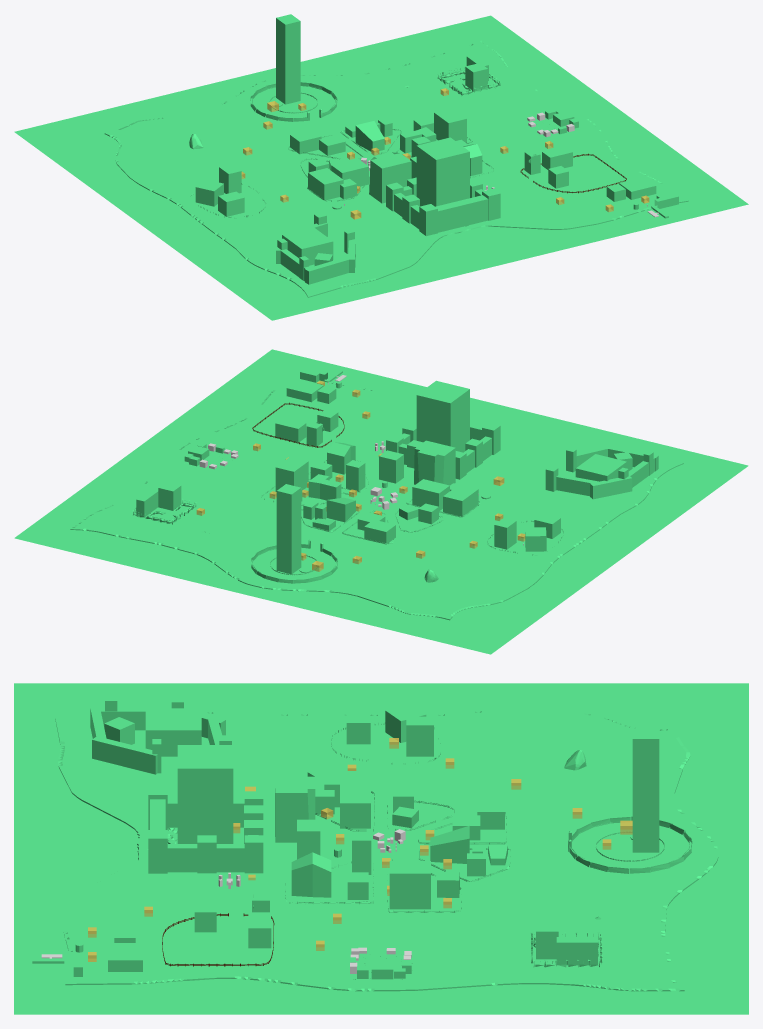
3 renders of one model, top to bottom at view 1: azimuth 30°, elevation 25°; view 2: azimuth 150°, elevation 25°; view 3: azimuth 270°, elevation 25°, orthographic. The views are drawn at different scales.
Parts seen in each view (by area): view 1: COL_Ground, COL_Water, COL_WonderWalls_SecondAge, COL_Temple_SecondAge_Level2, COL_House_3.001, COL_Wall_SecondAge.002, COL_Barracks_SecondAge_Level3, COL_Barracks_FirstAge_Level2.001, COL_Inn, COL_Stable.001, COL_Houses_SecondAge_2_Level2.002, COL_Houses_SecondAge_2_Level2.001 (+8 smaller); view 2: COL_Ground, COL_Water, COL_Temple_SecondAge_Level2, COL_WonderWalls_SecondAge, COL_Wall_SecondAge.002, COL_House_3.001, COL_Barracks_SecondAge_Level3, COL_Barracks_FirstAge_Level2.001, COL_Inn, COL_Stable.001, COL_Houses_SecondAge_2_Level2.002, COL_TowerHouse_SecondAge (+11 smaller); view 3: COL_Ground, COL_Water, COL_WonderWalls_SecondAge, COL_Temple_SecondAge_Level2, COL_House_3.001, COL_Wall_SecondAge.002, COL_Barracks_SecondAge_Level3, COL_Barracks_FirstAge_Level2.001, COL_Inn, COL_Houses_SecondAge_2_Level2, COL_Wall_SecondAge, COL_Houses_SecondAge_2_Level2.002 (+17 smaller).
Part boxes in pixels (x1=…): COL_Ground: x1=104, y1=39, x2=688, y2=297; COL_Water: x1=14, y1=15, x2=748, y2=320; COL_WonderWalls_SecondAge: x1=386, y1=177, x2=500, y2=236; COL_Temple_SecondAge_Level2: x1=416, y1=137, x2=469, y2=206; COL_House_3.001: x1=276, y1=14, x2=300, y2=104; COL_Wall_SecondAge.002: x1=276, y1=223, x2=355, y2=284; COL_Barracks_SecondAge_Level3: x1=369, y1=152, x2=411, y2=203; COL_Barracks_FirstAge_Level2.001: x1=282, y1=227, x2=333, y2=265; COL_Inn: x1=434, y1=108, x2=466, y2=142; COL_Stable.001: x1=308, y1=168, x2=343, y2=200; COL_Houses_SecondAge_2_Level2.002: x1=331, y1=158, x2=368, y2=186; COL_Houses_SecondAge_2_Level2.001: x1=355, y1=121, x2=384, y2=151; COL_Ground: x1=70, y1=372, x2=683, y2=620; COL_Water: x1=14, y1=349, x2=748, y2=654; COL_Temple_SecondAge_Level2: x1=416, y1=380, x2=469, y2=452; COL_WonderWalls_SecondAge: x1=386, y1=422, x2=500, y2=479; COL_Wall_SecondAge.002: x1=556, y1=444, x2=658, y2=499; COL_House_3.001: x1=276, y1=484, x2=301, y2=574; COL_Barracks_SecondAge_Level3: x1=414, y1=440, x2=455, y2=485; COL_Barracks_FirstAge_Level2.001: x1=575, y1=454, x2=626, y2=481; COL_Inn: x1=275, y1=456, x2=308, y2=491; COL_Stable.001: x1=443, y1=484, x2=478, y2=516; COL_Houses_SecondAge_2_Level2.002: x1=412, y1=479, x2=449, y2=511; COL_TowerHouse_SecondAge: x1=379, y1=450, x2=403, y2=483; COL_Ground: x1=55, y1=709, x2=718, y2=991; COL_Water: x1=14, y1=683, x2=748, y2=1014; COL_WonderWalls_SecondAge: x1=148, y1=786, x2=263, y2=873; COL_Temple_SecondAge_Level2: x1=177, y1=745, x2=233, y2=843; COL_House_3.001: x1=632, y1=728, x2=659, y2=852; COL_Wall_SecondAge.002: x1=90, y1=707, x2=225, y2=774; COL_Barracks_SecondAge_Level3: x1=275, y1=772, x2=315, y2=842; COL_Barracks_FirstAge_Level2.001: x1=145, y1=708, x2=201, y2=756; COL_Inn: x1=389, y1=861, x2=430, y2=909; COL_Houses_SecondAge_2_Level2: x1=291, y1=852, x2=331, y2=897; COL_Wall_SecondAge: x1=569, y1=816, x2=692, y2=873; COL_Houses_SecondAge_2_Level2.002: x1=340, y1=784, x2=370, y2=828.
Bounding box in the file's own units: 320 × 54.35 × 300.
Materials: 3 (1 with a texture image).
